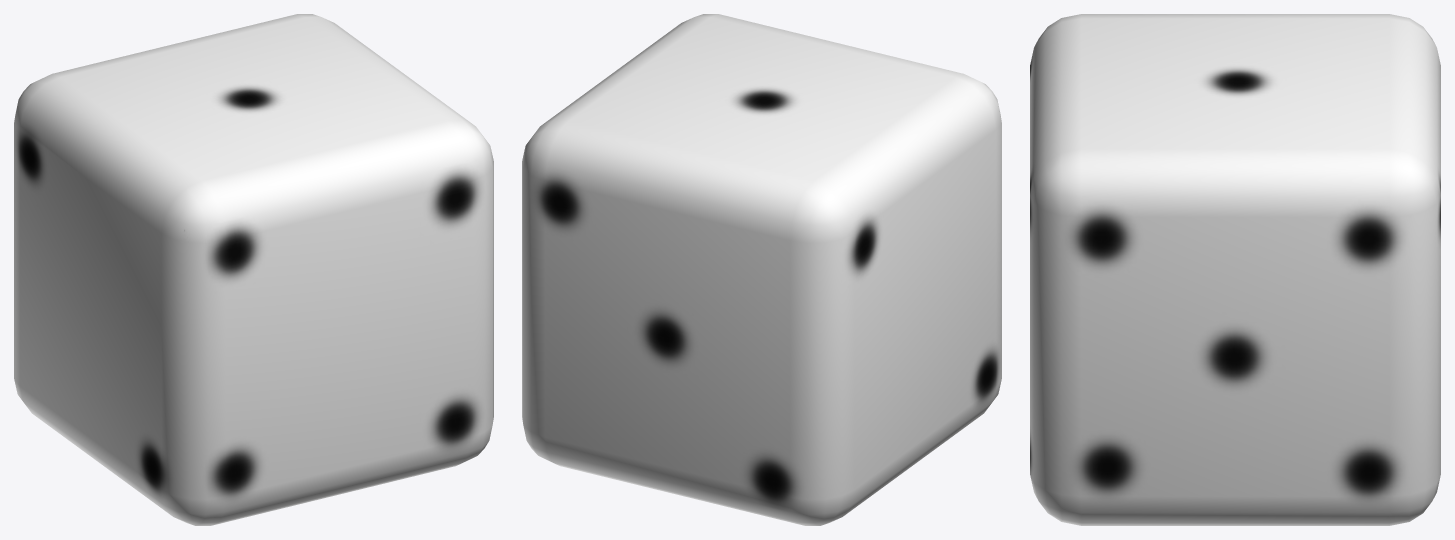
The model's file is dice.glb.
3 views of the same model, side by side, from view 1: azimuth 30°, elevation 25°; view 2: azimuth 150°, elevation 25°; view 3: azimuth 270°, elevation 25° (orthographic). The views are drawn at different scales.
Visible parts, largest first — view 1: Cube; view 2: Cube; view 3: Cube.
Boxes of the visible parts, bbox=[...] form: Cube: bbox=[14, 14, 493, 525]; Cube: bbox=[522, 14, 1001, 525]; Cube: bbox=[1030, 14, 1440, 525].
Bounding box in the file's own units: 1 × 1 × 1.
Materials: 1 (1 with a texture image).
